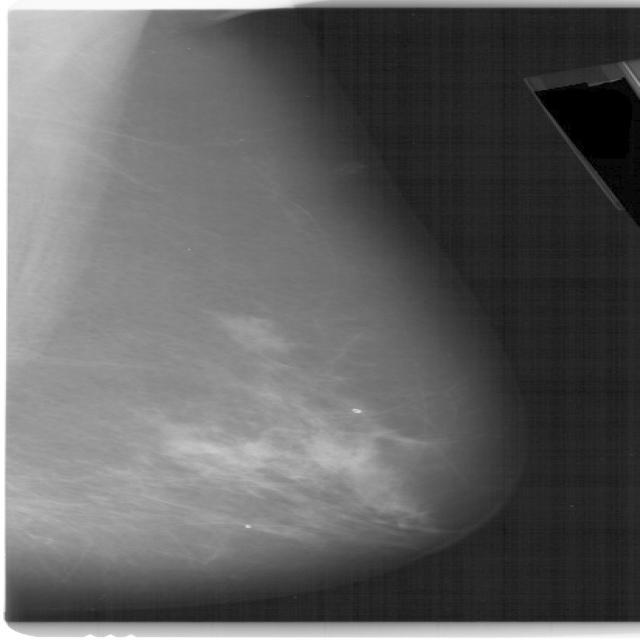tumour: (221, 312, 298, 359)
